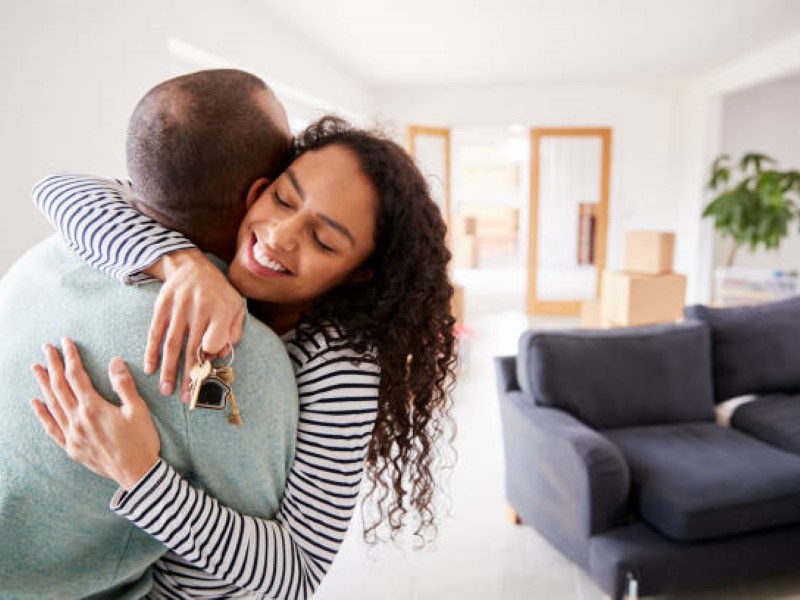key: (182, 351, 244, 429)
